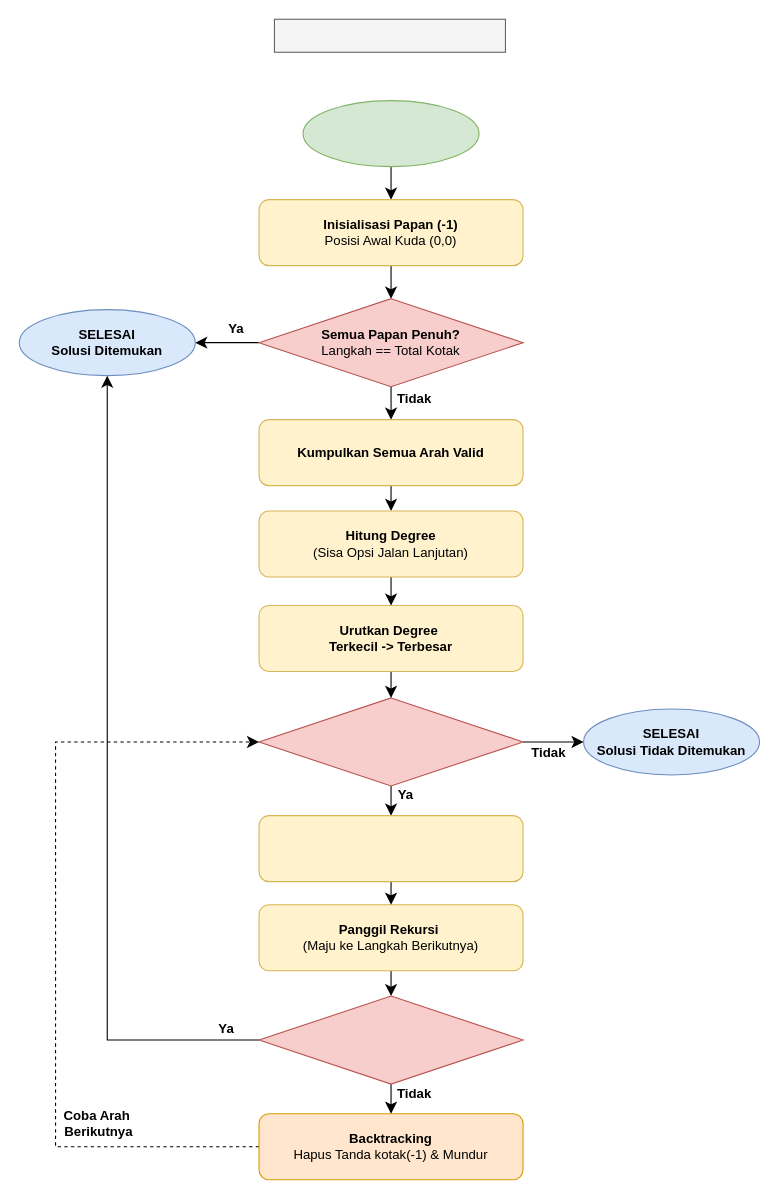
This 779x1199 diagram has some shape labels left out. Each missing label, with the centre of its shape:
Knight's Tour Warnsdorff's: [389,35]
Masih Ada Opsi Arah Tersisa?: [390,741]
MULAI: [390,133]
Rekursi return True?: [390,1039]
Tandai Kotak dari Degree Terkecil: [390,848]
